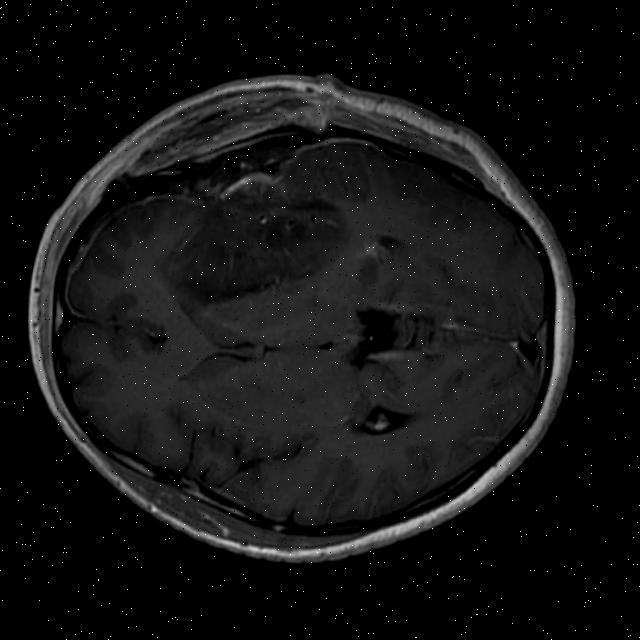Glioma: (154, 171, 350, 325)
